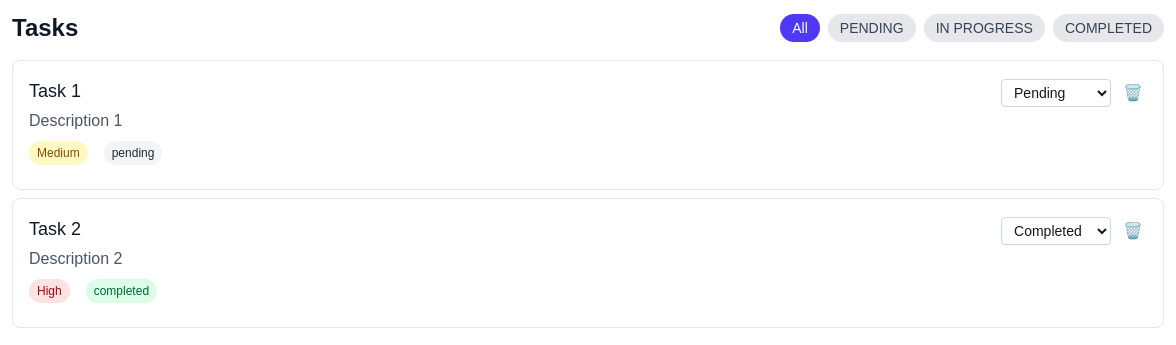
Scenario: TaskList › filters tasks by status
What coordinates should you click on to do the following:
click the button "PENDING"
I would click on:
 (872, 28)
Its box is [828, 14, 916, 42].
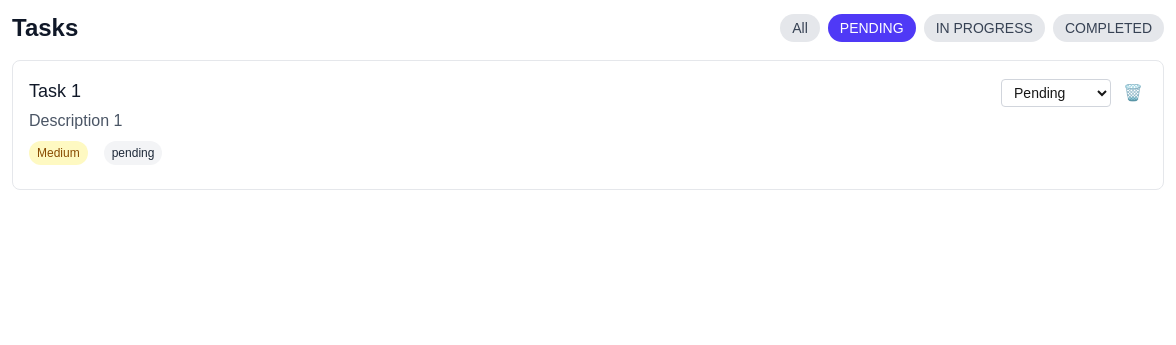
Check: the heading "Task 2" is gone
